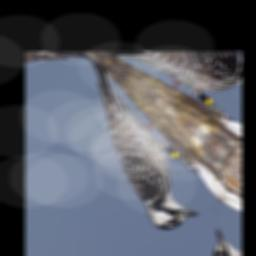Woodpecker: (40, 56, 231, 247)
